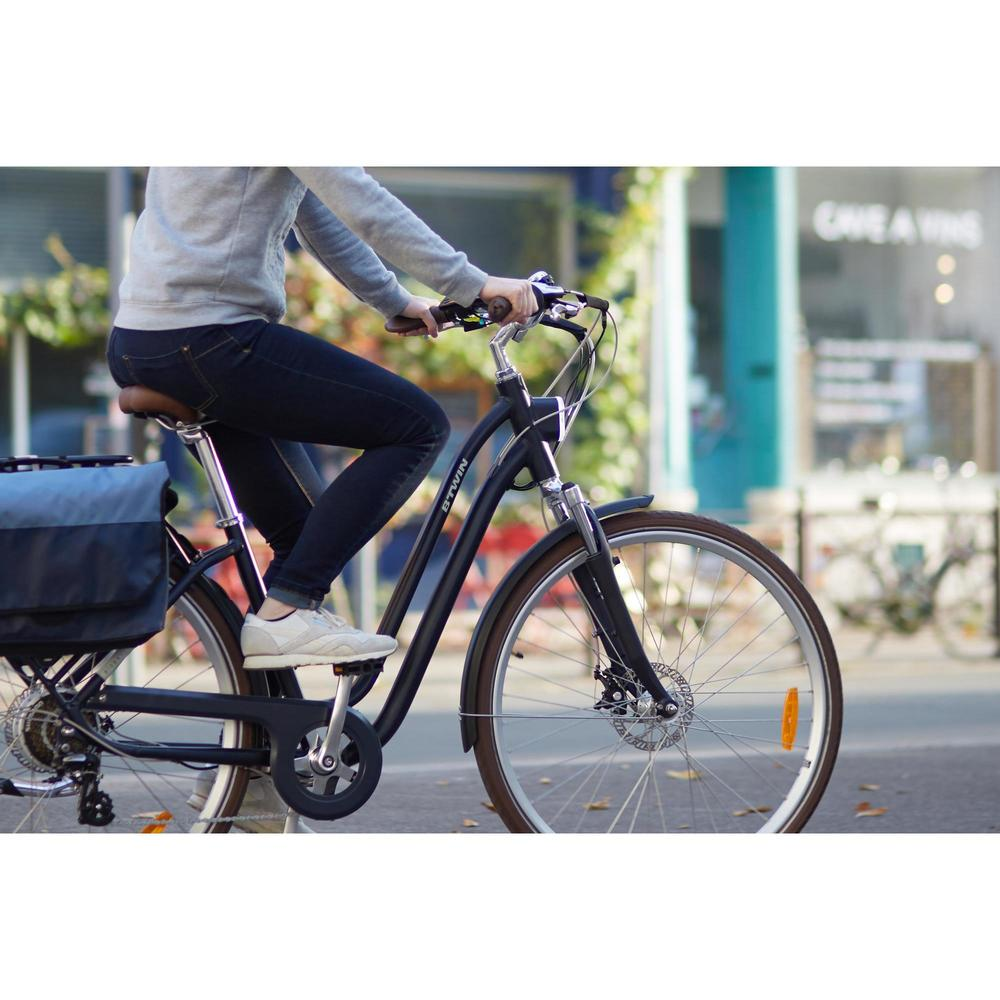UrbanBike: (0, 272, 861, 840)
